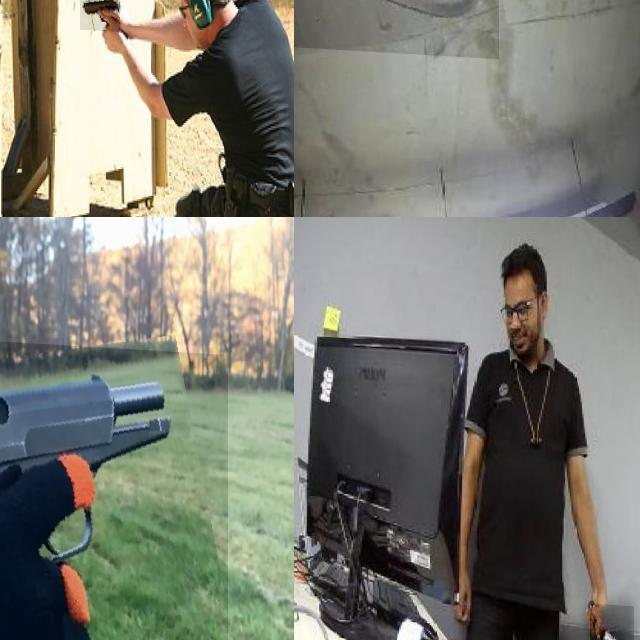-: (294, 0, 499, 106), (589, 599, 634, 640)
gun-knife-thesis - v11 Yolov5 augmented: (0, 329, 228, 640), (79, 0, 120, 28)
